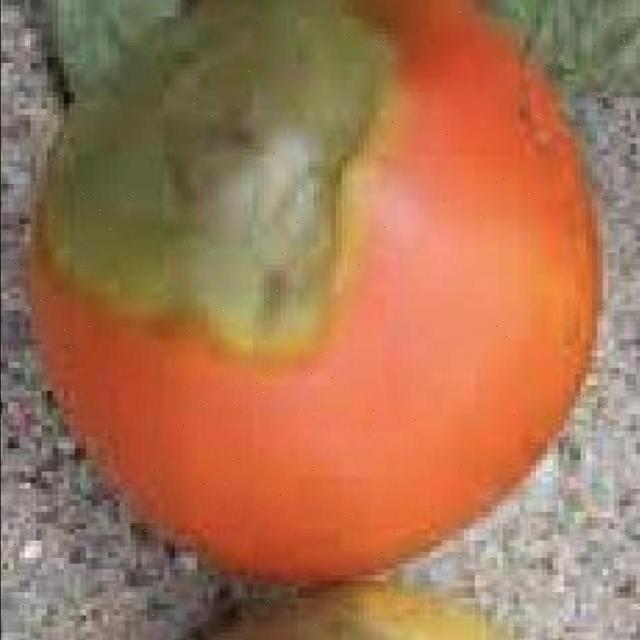Sunscald Fruit: (26, 1, 269, 247)
